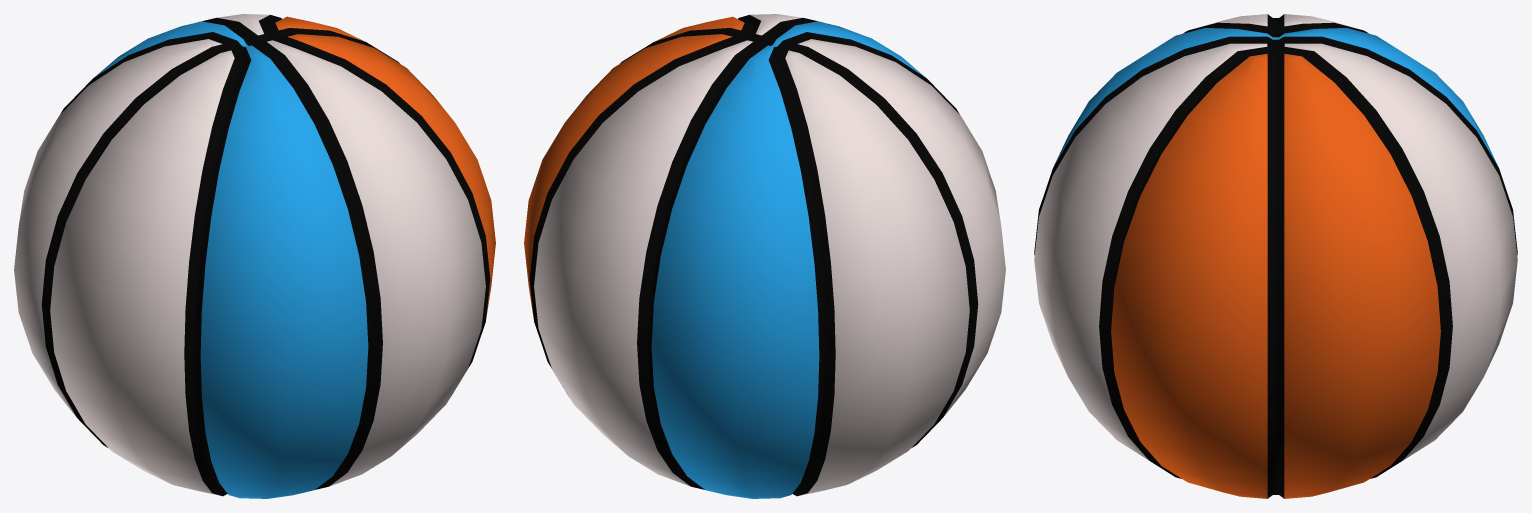
Rendered from Basketball2.glb.
3 renders of one model, left to right at view 1: azimuth 30°, elevation 25°; view 2: azimuth 150°, elevation 25°; view 3: azimuth 270°, elevation 25°, orthographic.
Visible parts, largest first — view 1: Sphere.001; view 2: Sphere.001; view 3: Sphere.001.
Boxes of the visible parts, <box> form: Sphere.001: <box>14,14,495,498</box>; Sphere.001: <box>524,14,1005,498</box>; Sphere.001: <box>1034,14,1517,498</box>.
Size of the model in its own units: 1.99 by 1.96 by 1.99.
